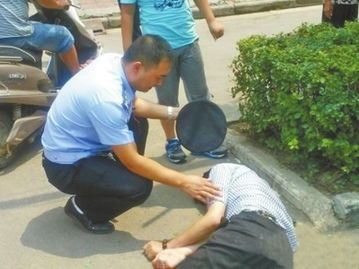falling: (132, 151, 302, 268)
